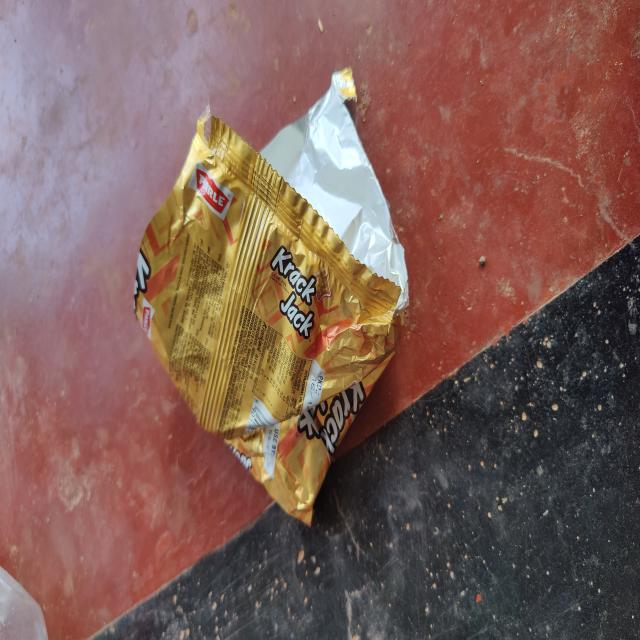plastic: (136, 64, 412, 526)
